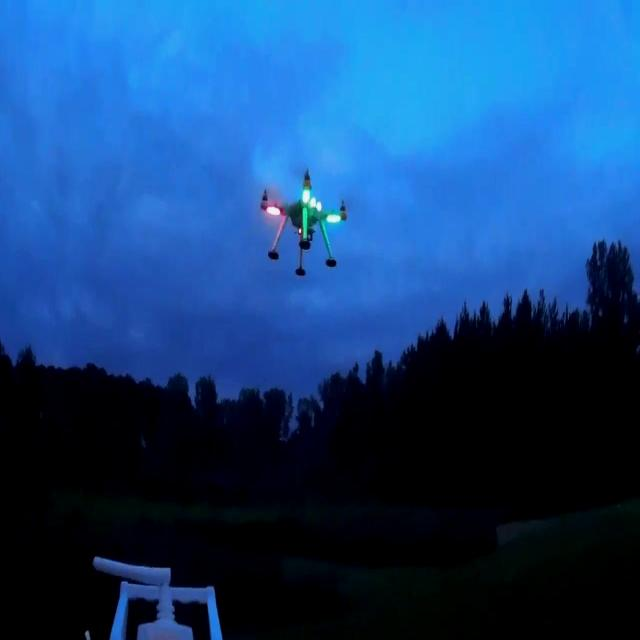drone: (256, 164, 352, 280)
